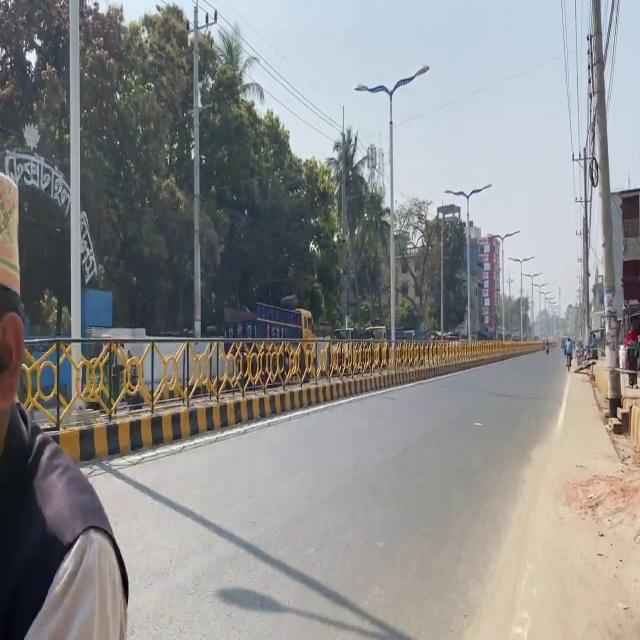Garbage-bin: (0, 171, 129, 638), (623, 322, 639, 388), (563, 337, 573, 370)
Light-pole: (586, 0, 621, 414), (67, 0, 83, 414), (190, 1, 202, 339)
Pothole: (467, 353, 639, 639)
Traffic-cone: (218, 300, 316, 379)
